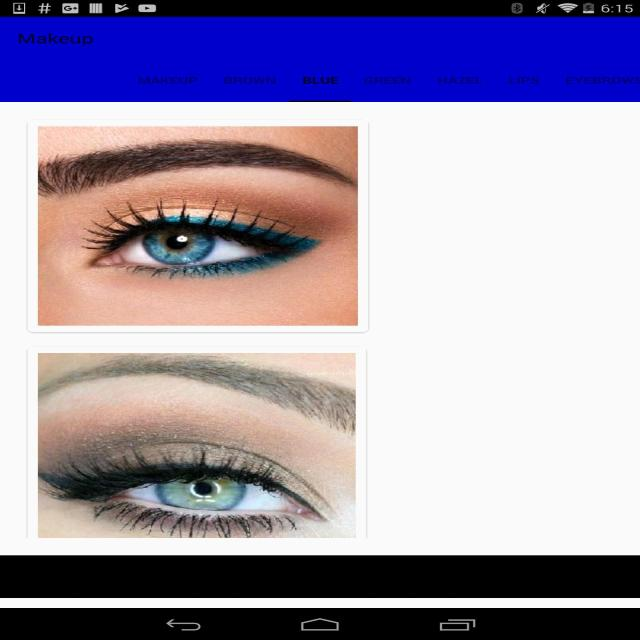button: (562, 67, 640, 98), (212, 68, 285, 99), (137, 67, 204, 97), (357, 67, 421, 98), (429, 66, 487, 98), (294, 68, 348, 98), (497, 68, 549, 98)
heading: (7, 27, 102, 54)
image: (38, 125, 358, 328), (35, 352, 358, 538)
